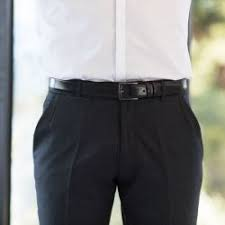F_belt: (42, 72, 192, 104)
F_dress pants: (31, 91, 207, 223)
